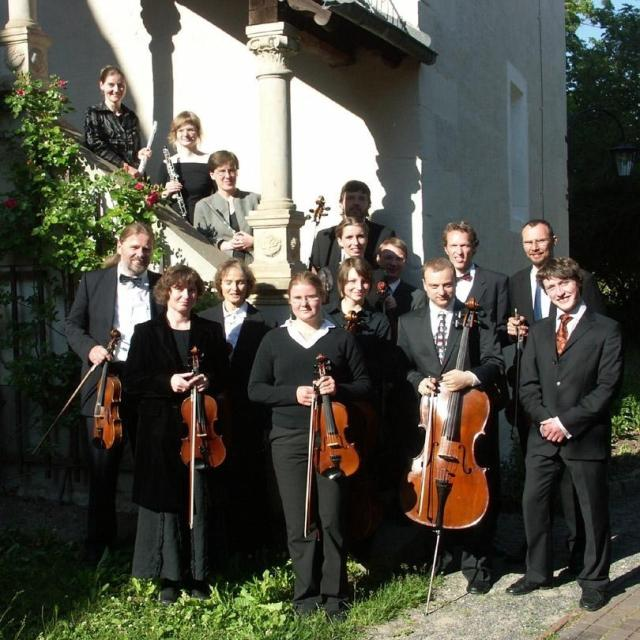cello: (399, 297, 497, 530)
clarinet: (161, 145, 193, 221)
violin: (301, 352, 366, 482), (173, 344, 230, 473), (90, 324, 134, 453)
